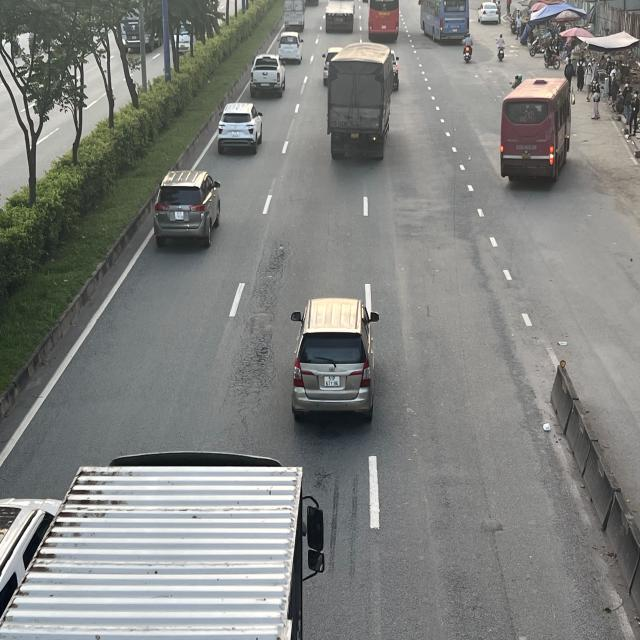car: (290, 298, 378, 426), (152, 168, 225, 248), (217, 100, 265, 152), (250, 54, 288, 96), (275, 32, 303, 63), (477, 3, 502, 24)
coach: (500, 76, 574, 181), (417, 0, 470, 44), (366, 0, 401, 42)
truck: (327, 43, 392, 159), (281, 0, 307, 31)
